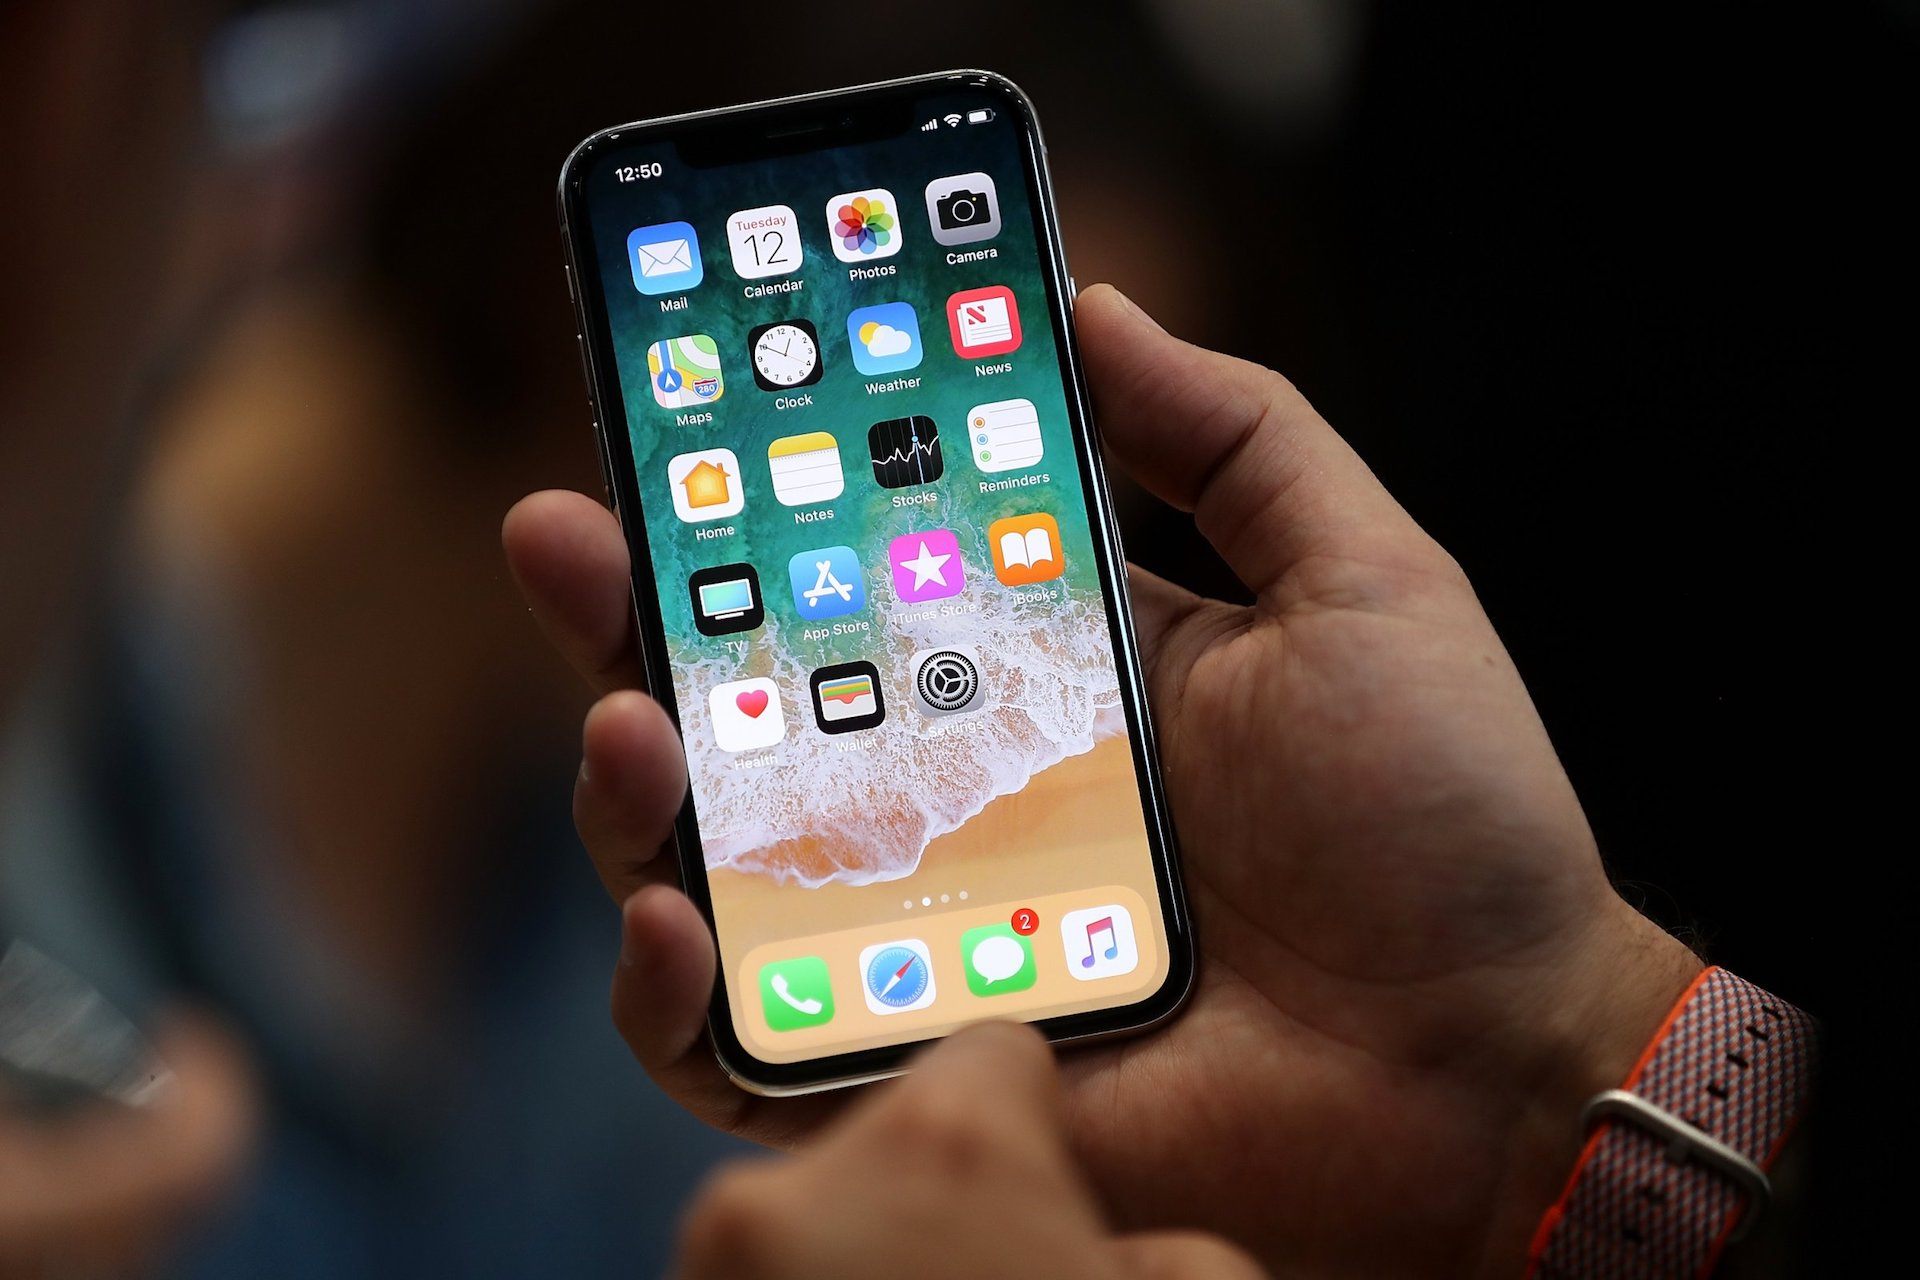smartphone: (553, 59, 1203, 1109)
